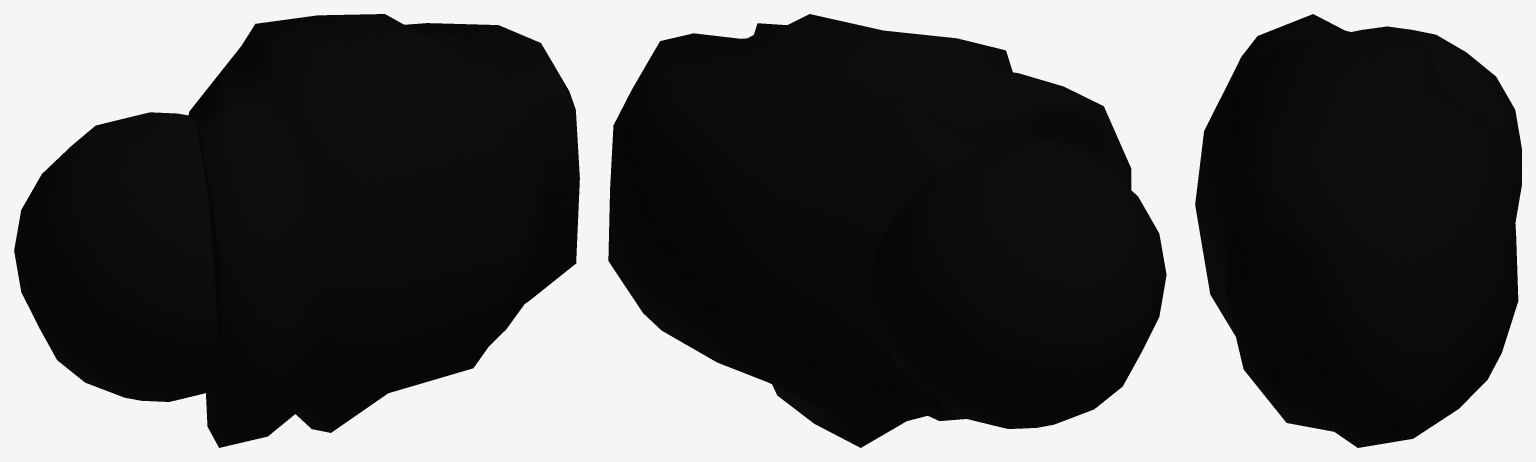
The model's file is RFinger43.obj.
3 views of the same model, side by side, from view 1: azimuth 30°, elevation 25°; view 2: azimuth 150°, elevation 25°; view 3: azimuth 270°, elevation 25° (orthographic). The views are drawn at different scales.
Bounding box in the file's own units: 0.2263 × 0.1517 × 0.126.
